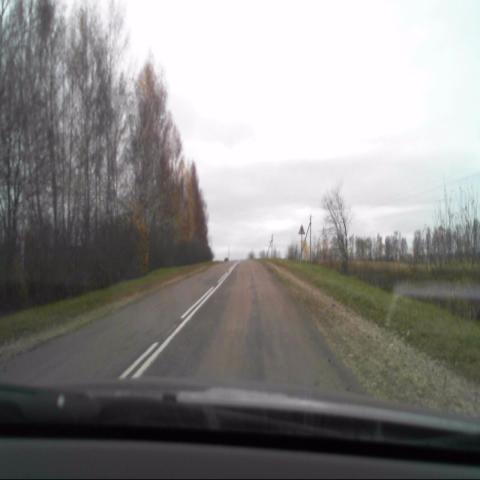2_3_3: (298, 222, 305, 234)
